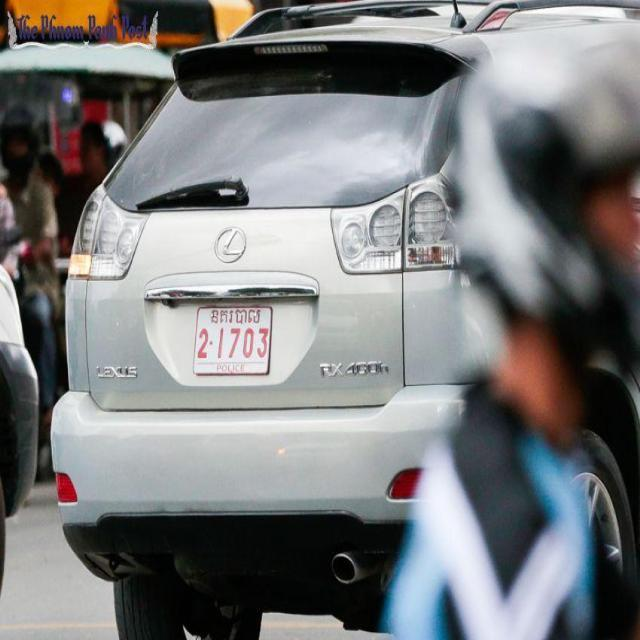Police: (211, 308, 262, 324)
